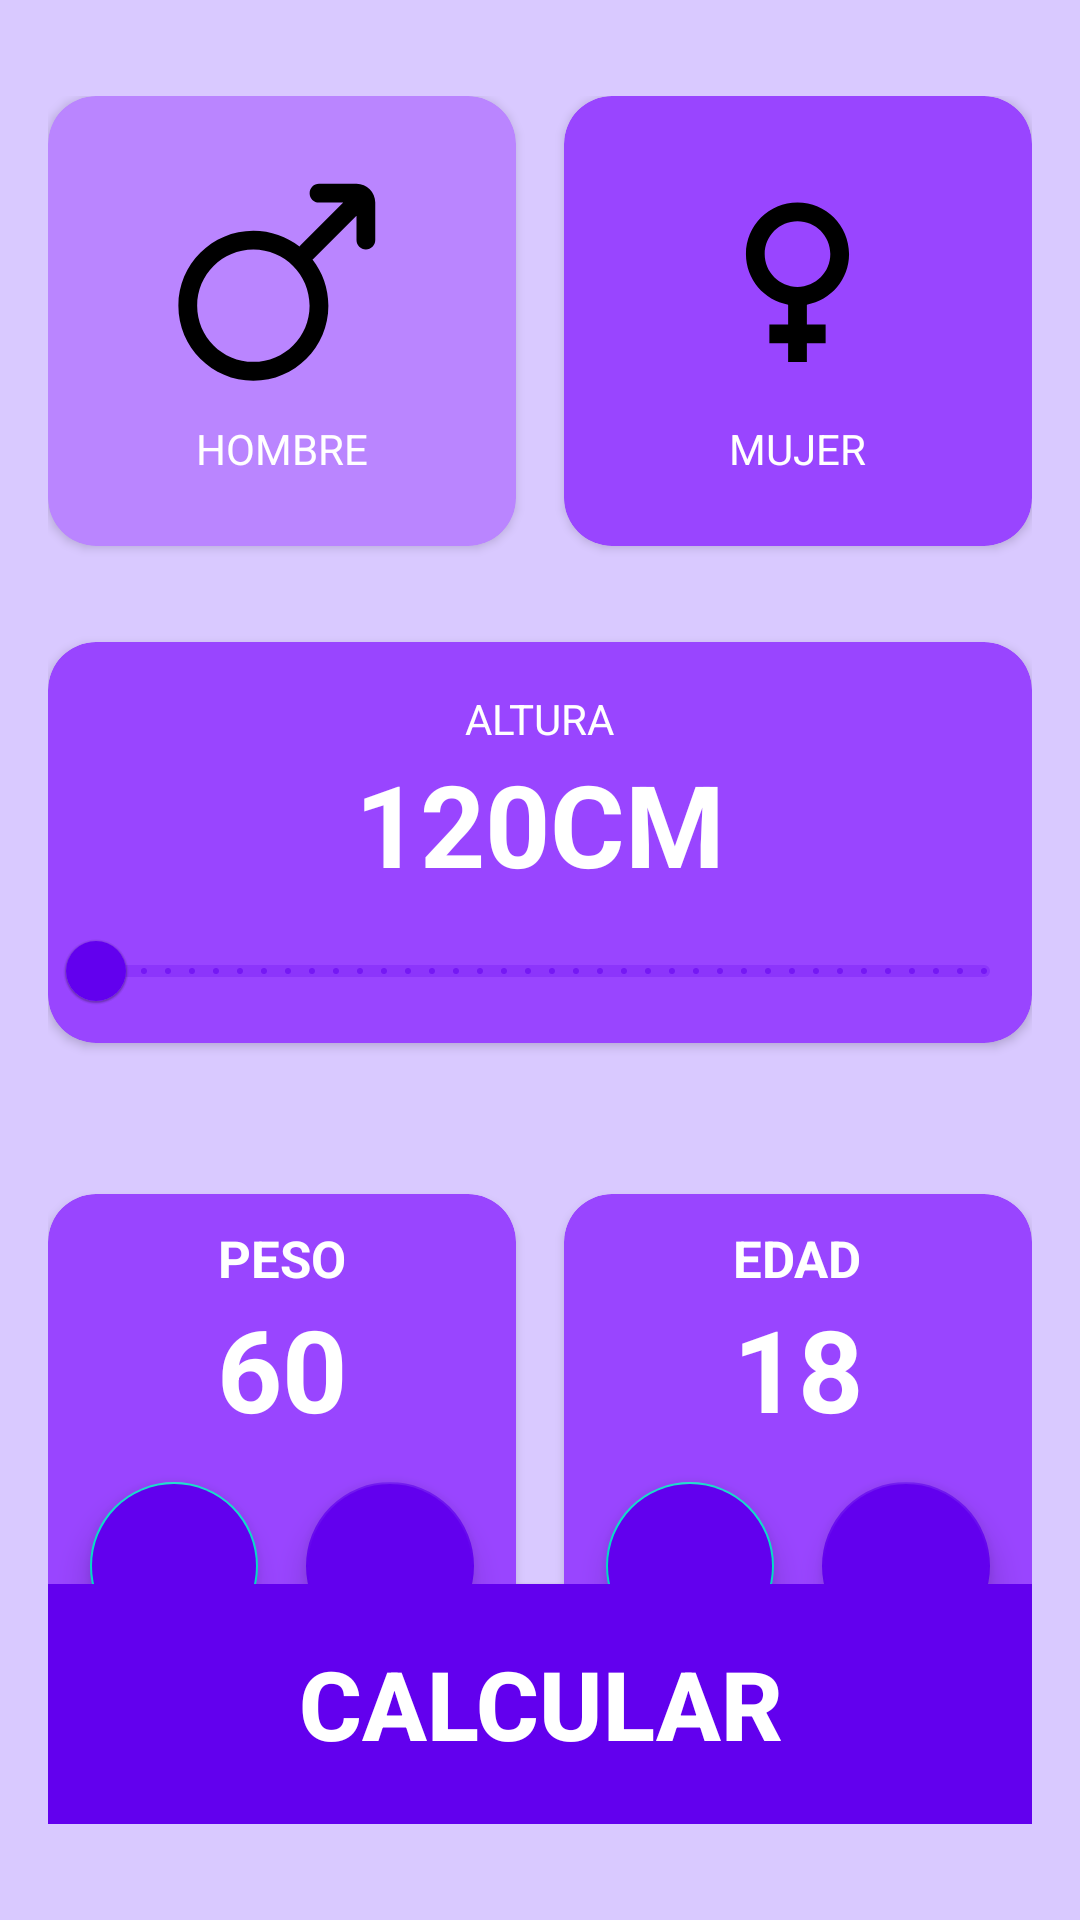

Icon click points for this 1080w x 1920h phone screenshot, format point (x, y):
female: point (797, 282)
